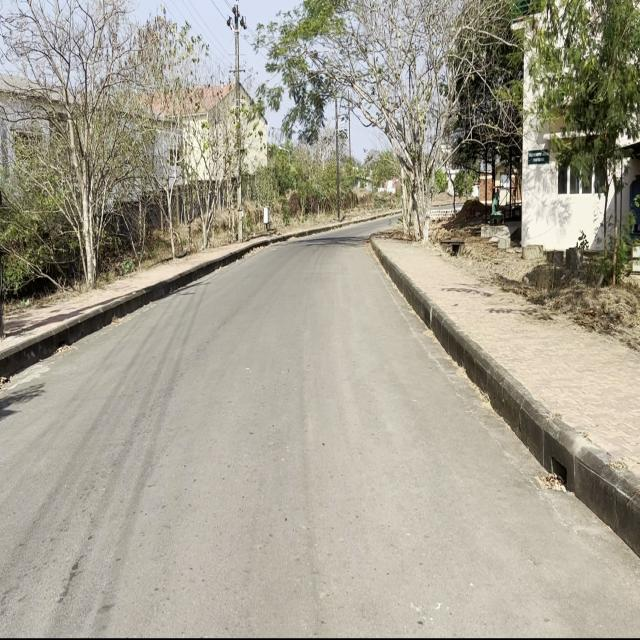Road: (3, 234, 637, 631)
